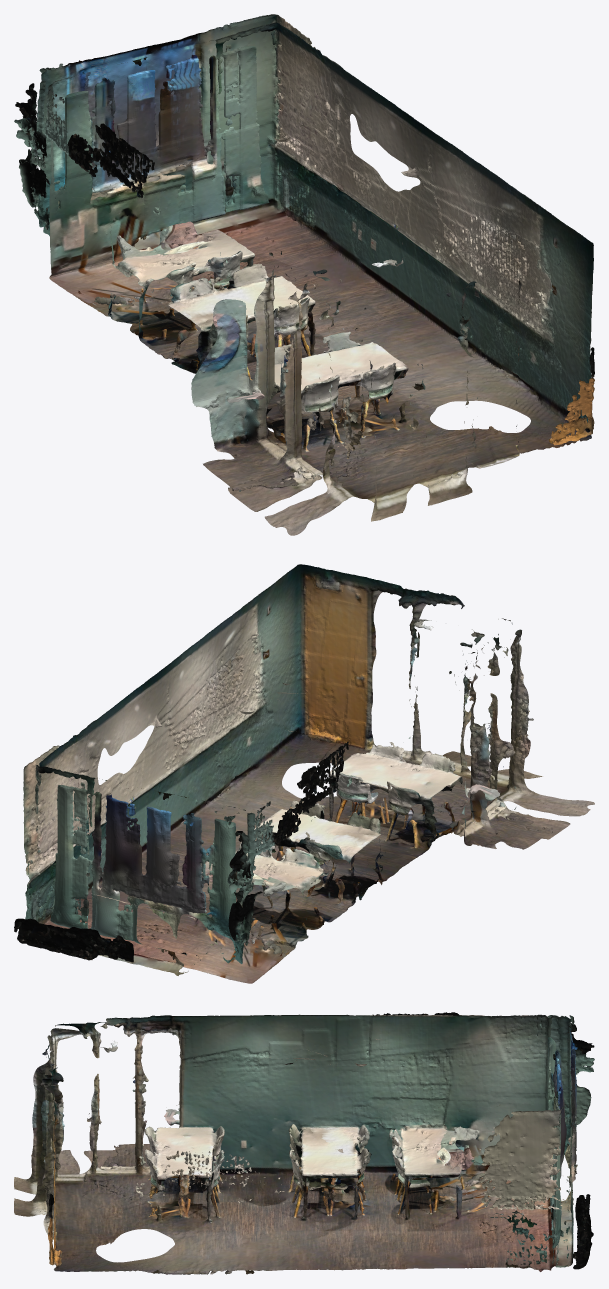
File: POLYCAM_ROOM_GLB_2.glb
3 renders of one model, top to bottom at view 1: azimuth 30°, elevation 25°; view 2: azimuth 150°, elevation 25°; view 3: azimuth 270°, elevation 25°, orthographic. The views are drawn at different scales.
Bounding box in the file's own units: 4.37 × 2.62 × 8.06.
3 materials, 3 textured.
